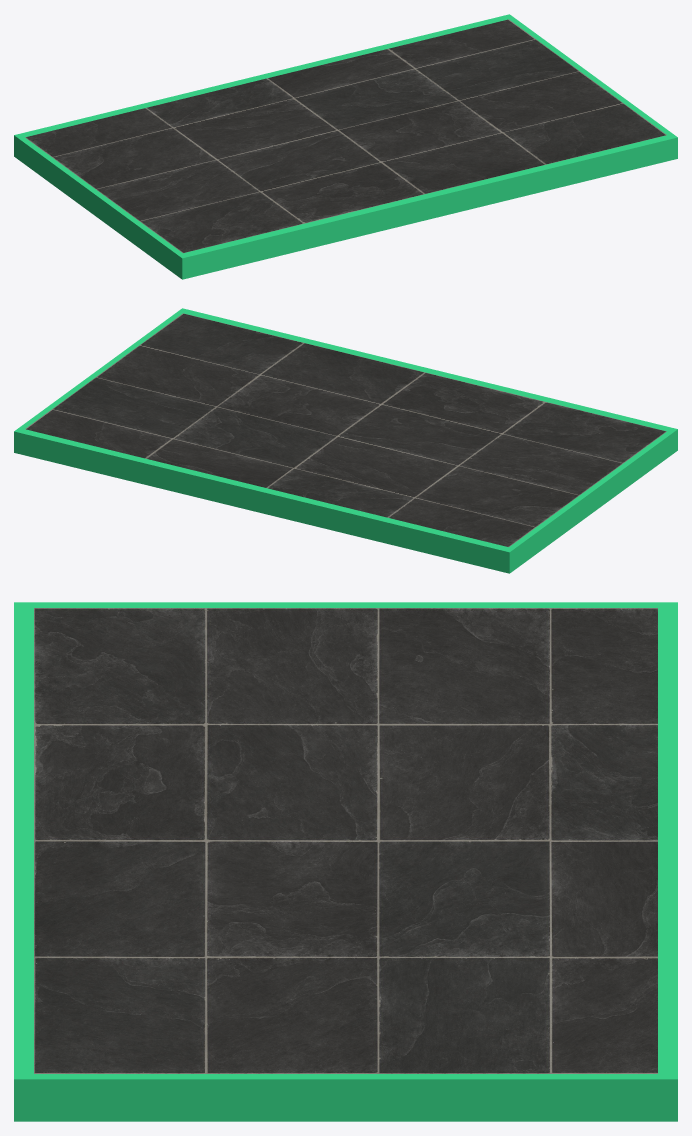
File: UV_corrected_base_floor.fbx
3 views of the same model, one above another, from view 1: azimuth 30°, elevation 25°; view 2: azimuth 150°, elevation 25°; view 3: azimuth 270°, elevation 25° (orthographic). The views are drawn at different scales.
Visible parts, largest first — view 1: UV_Corrected_BasePlate_F0; view 2: UV_Corrected_BasePlate_F0; view 3: UV_Corrected_BasePlate_F0.
Boxes of the visible parts, left/top/right/bottom form: UV_Corrected_BasePlate_F0: left=14, top=14, right=677, bottom=279; UV_Corrected_BasePlate_F0: left=14, top=308, right=677, bottom=573; UV_Corrected_BasePlate_F0: left=14, top=602, right=677, bottom=1121.
Bounding box in the file's own units: 1700 × 1000 × 70.
